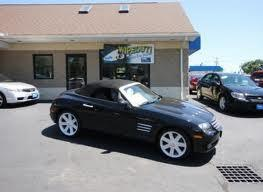Car: (40, 74, 226, 179), (197, 68, 262, 123), (0, 72, 45, 108)
